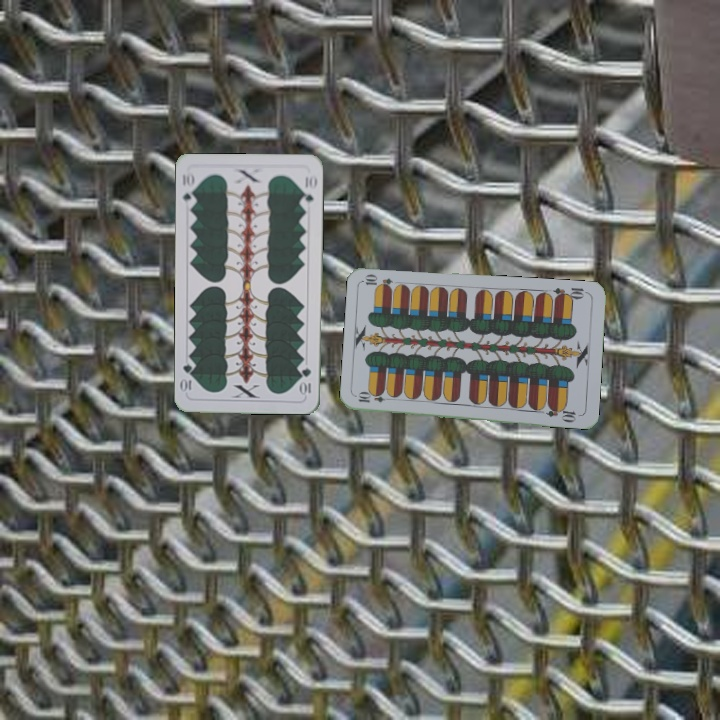E10: (550, 284, 590, 303), (354, 390, 395, 405)
G10: (178, 168, 198, 209), (298, 364, 313, 398)
